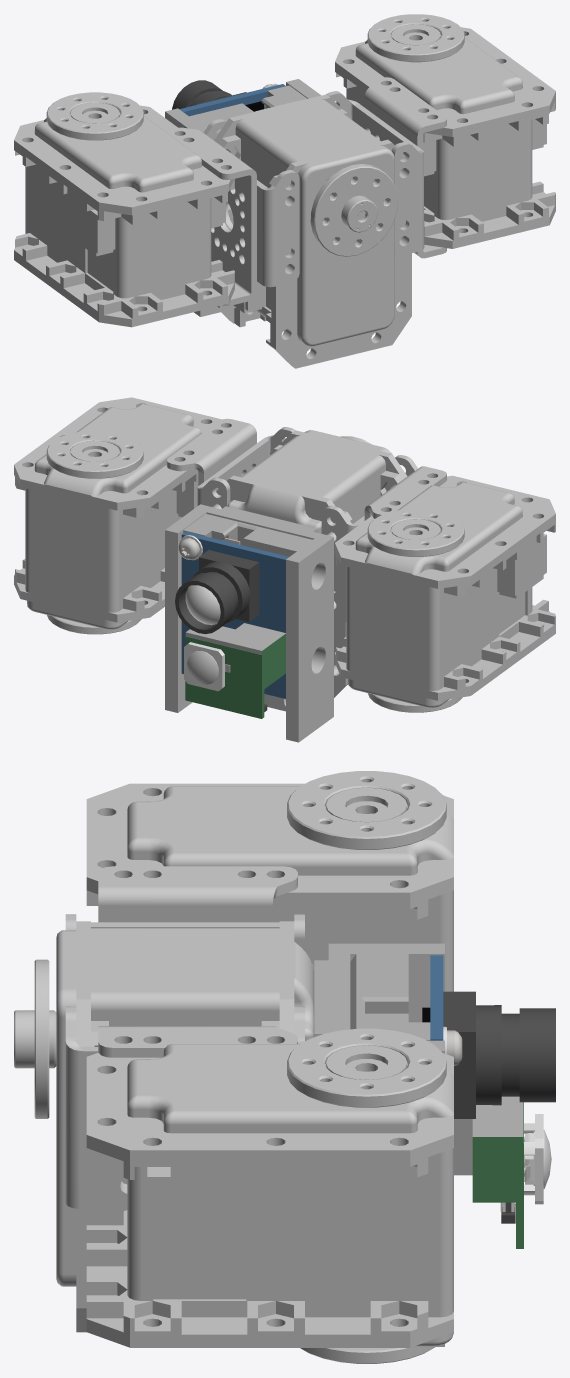
File: 50-TCP-03.dae
3 renders of one model, top to bottom at view 1: azimuth 30°, elevation 25°; view 2: azimuth 150°, elevation 25°; view 3: azimuth 270°, elevation 25°, orthographic. The views are drawn at different scales.
Parts seen in each view (by area): view 1: _88-MoveIt-60-TCP-03; view 2: _88-MoveIt-60-TCP-03; view 3: _88-MoveIt-60-TCP-03.
Boxes of the visible parts, x1,y1,x2,y2 form: _88-MoveIt-60-TCP-03: [14, 14, 555, 368]; _88-MoveIt-60-TCP-03: [14, 397, 555, 742]; _88-MoveIt-60-TCP-03: [14, 771, 555, 1363].
Size of the model in its own units: 0.1196 by 0.0747 by 0.0548.
